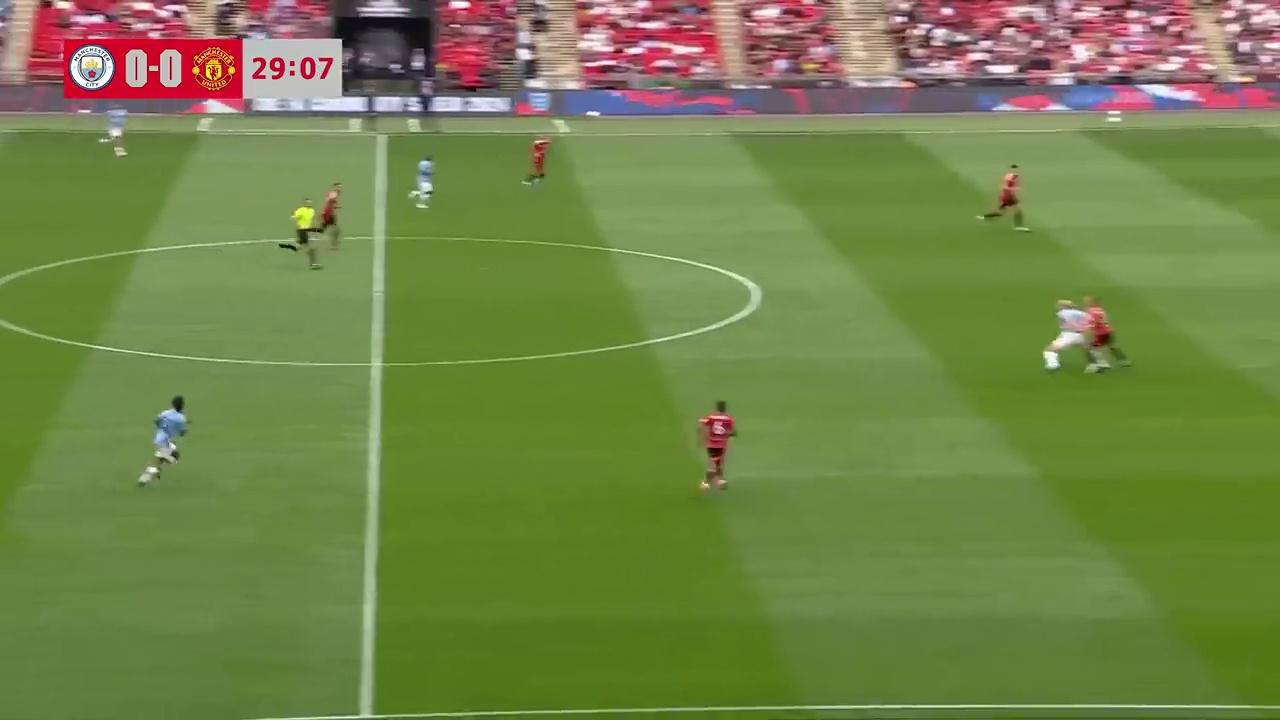ball: (1043, 351, 1061, 371)
player: (1059, 296, 1132, 375), (136, 394, 189, 487), (1042, 296, 1093, 374), (697, 399, 736, 493), (977, 164, 1029, 230), (314, 182, 342, 249), (523, 134, 551, 186), (408, 154, 434, 209), (102, 106, 127, 157)
referee: (289, 197, 325, 270)
